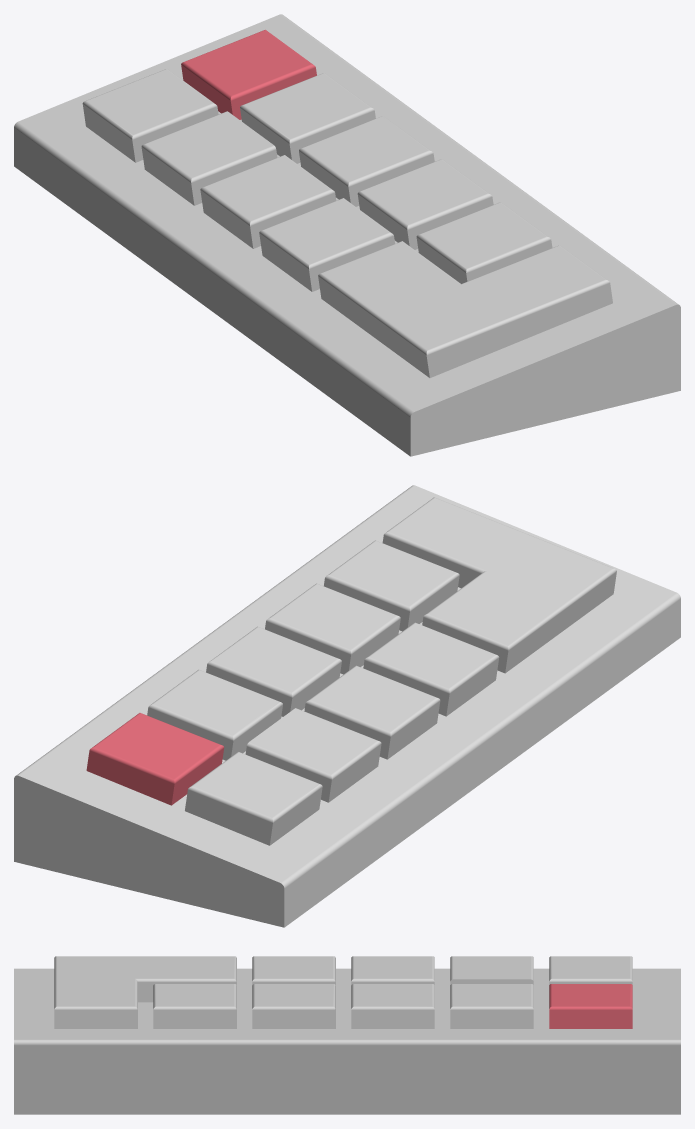
The model's file is keyboard.glb.
3 views of the same model, one above another, from view 1: azimuth 30°, elevation 25°; view 2: azimuth 150°, elevation 25°; view 3: azimuth 270°, elevation 25° (orthographic). The views are drawn at different scales.
Visible parts, largest first — view 1: Solid_40.001, Extruded.018, Extruded.006, Extruded.012, Extruded.010, Extruded.007, Extruded.009, Extruded.011, Extruded.004, Extruded.003, Extruded.002; view 2: Solid_40.001, Extruded.018, Extruded.007, Extruded.004, Extruded.006, Extruded.012, Extruded.010, Extruded.011, Extruded.002, Extruded.009, Extruded.003; view 3: Solid_40.001, Extruded.018, Extruded.002, Extruded.011, Extruded.009, Extruded.003, Extruded.004, Extruded.012, Extruded.010, Extruded.007, Extruded.006.
Boxes of the visible parts, x1,y1,x2,y2 form: Solid_40.001: (14, 14, 680, 456); Extruded.018: (318, 241, 612, 377); Extruded.006: (141, 111, 277, 205); Extruded.012: (259, 198, 394, 291); Extruded.010: (200, 155, 336, 248); Extruded.007: (82, 69, 218, 162); Extruded.009: (299, 116, 434, 206); Extruded.011: (357, 159, 493, 249); Extruded.004: (181, 29, 316, 119); Extruded.003: (240, 73, 375, 163); Extruded.002: (416, 202, 552, 283); Solid_40.001: (14, 485, 680, 927); Extruded.018: (382, 497, 616, 673); Extruded.007: (185, 751, 322, 845); Extruded.004: (86, 713, 224, 805); Extruded.006: (245, 708, 381, 802); Extruded.012: (363, 622, 499, 716); Extruded.010: (304, 665, 440, 759); Extruded.011: (265, 583, 400, 674); Extruded.002: (324, 540, 459, 631); Extruded.009: (206, 626, 341, 716); Extruded.003: (147, 669, 282, 760); Solid_40.001: (14, 968, 680, 1114); Extruded.018: (54, 956, 236, 1028); Extruded.002: (153, 984, 236, 1028); Extruded.011: (252, 984, 335, 1028); Extruded.009: (351, 984, 434, 1028); Extruded.003: (450, 984, 533, 1028); Extruded.004: (549, 984, 632, 1028); Extruded.012: (252, 956, 335, 985); Extruded.010: (351, 956, 434, 984); Extruded.007: (549, 956, 632, 984); Extruded.006: (450, 956, 533, 984).
Bounding box in the file's own units: 3.28 × 1.21 × 8.35.
